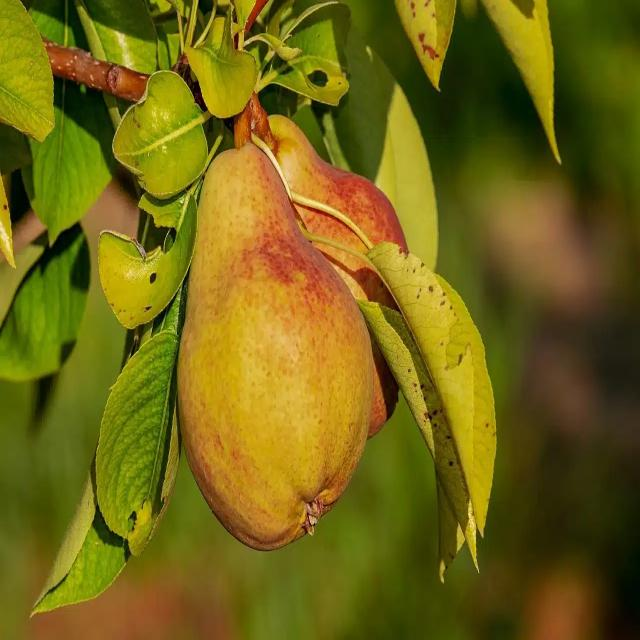pera: (171, 138, 380, 562)
